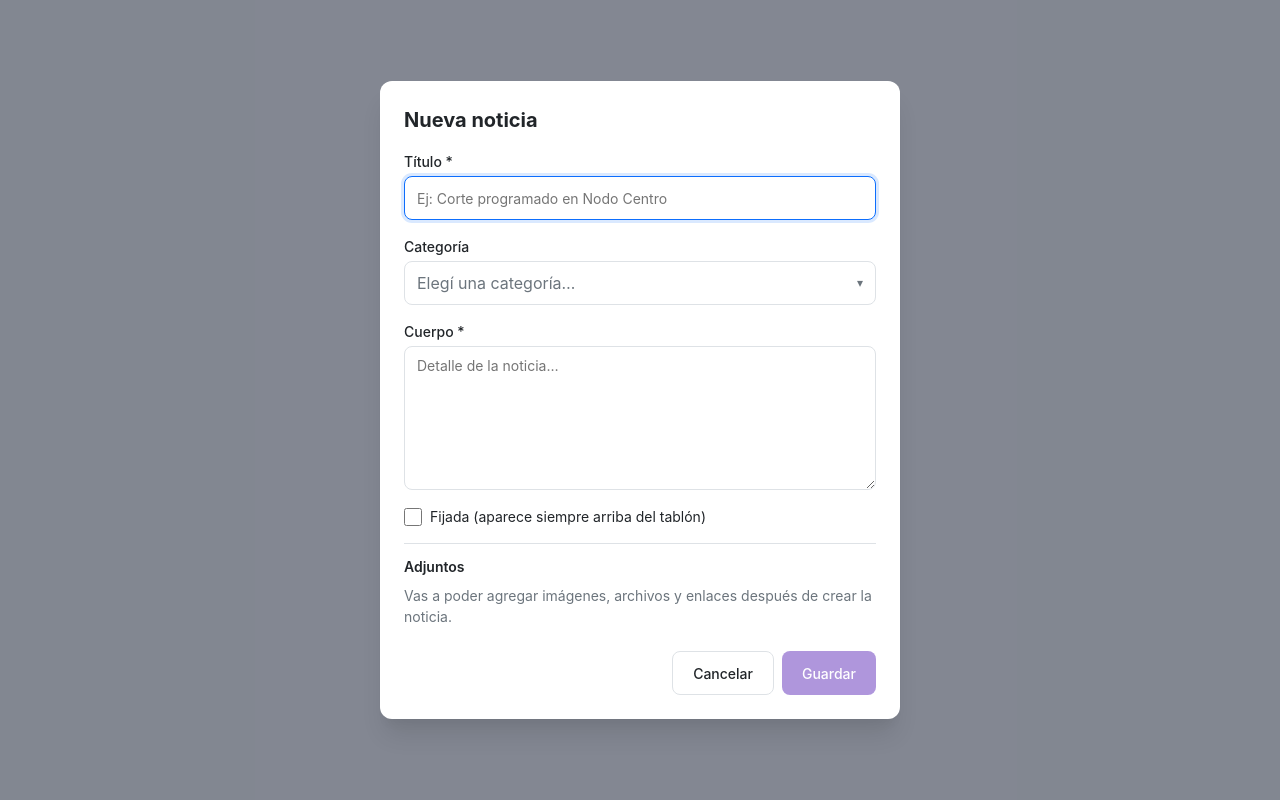
Scenario: NewsPostModal — doble validación (NEWS-FE-BD-5) › maps a BE 400 validation error to a visible message without closing
Type "Nueva noticia" into the field labelled "Título *" at (640, 198), box [404, 176, 876, 220]
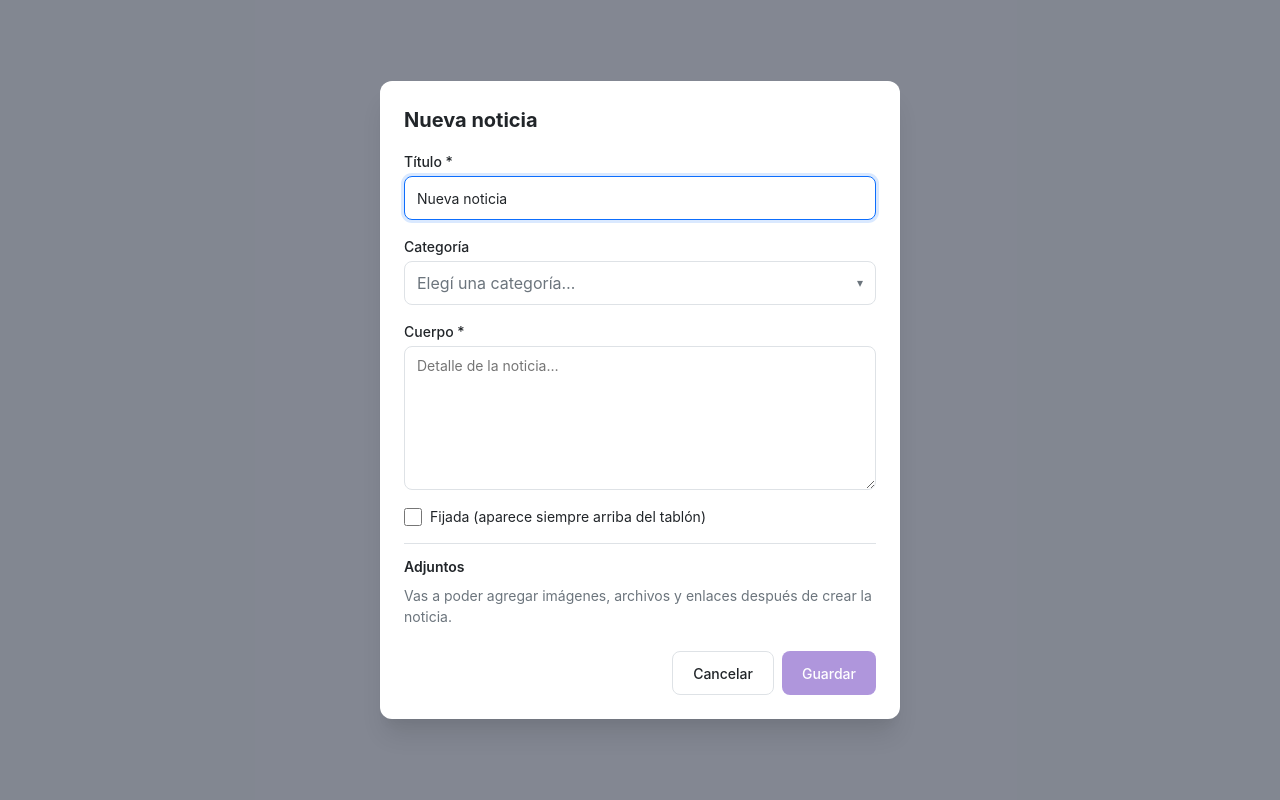
Type "Contenido" into the text box labelled "Cuerpo *" at (640, 418), box [404, 346, 876, 490]
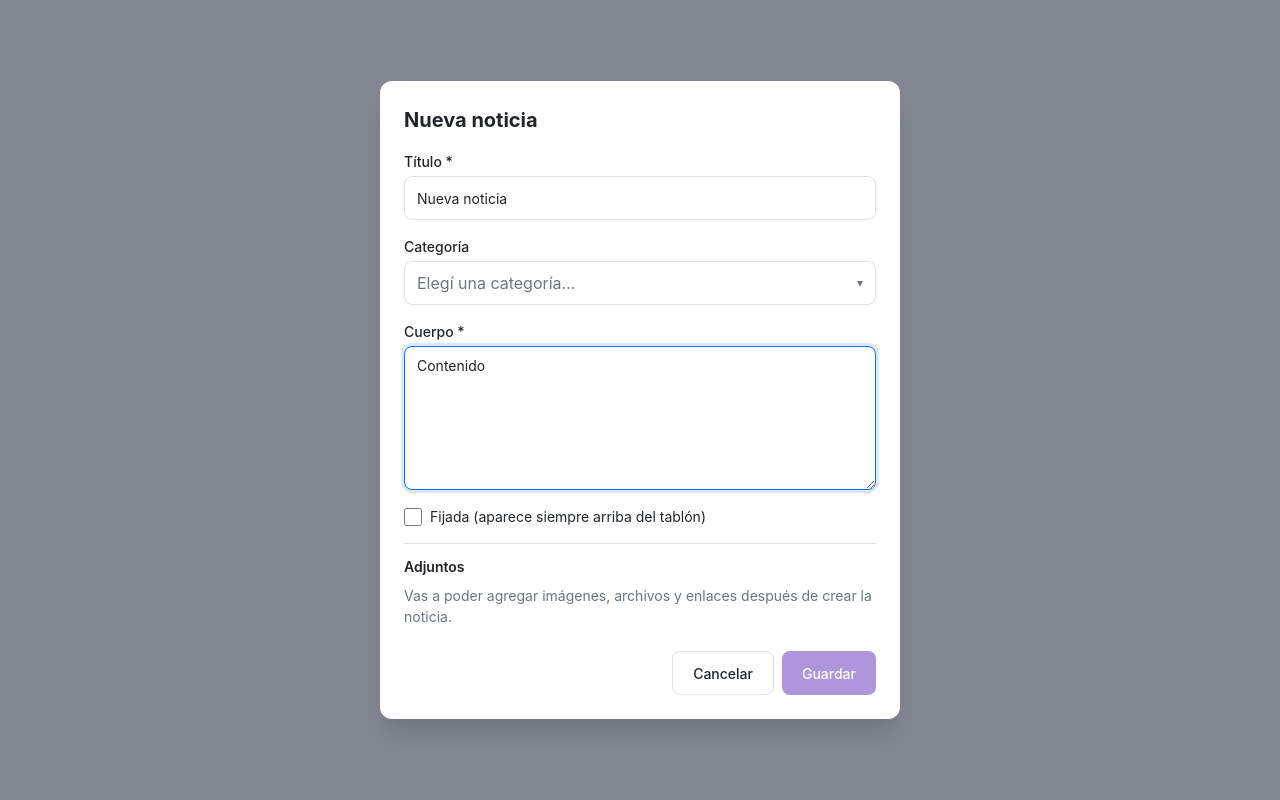
Click the dropdown labelled "Elegí una categoría… ▾" at (496, 283), box [404, 261, 876, 305]
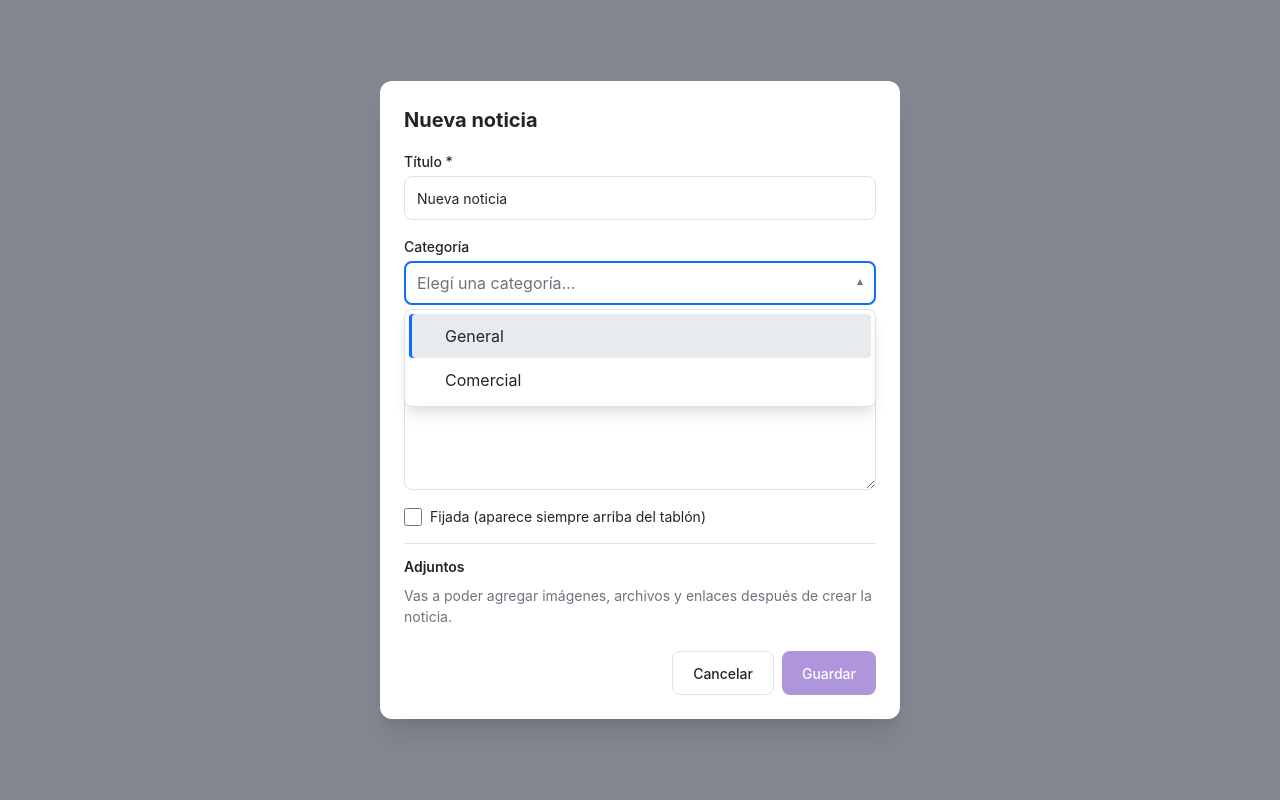
Click the option "General" at (474, 336), box [409, 314, 871, 358]
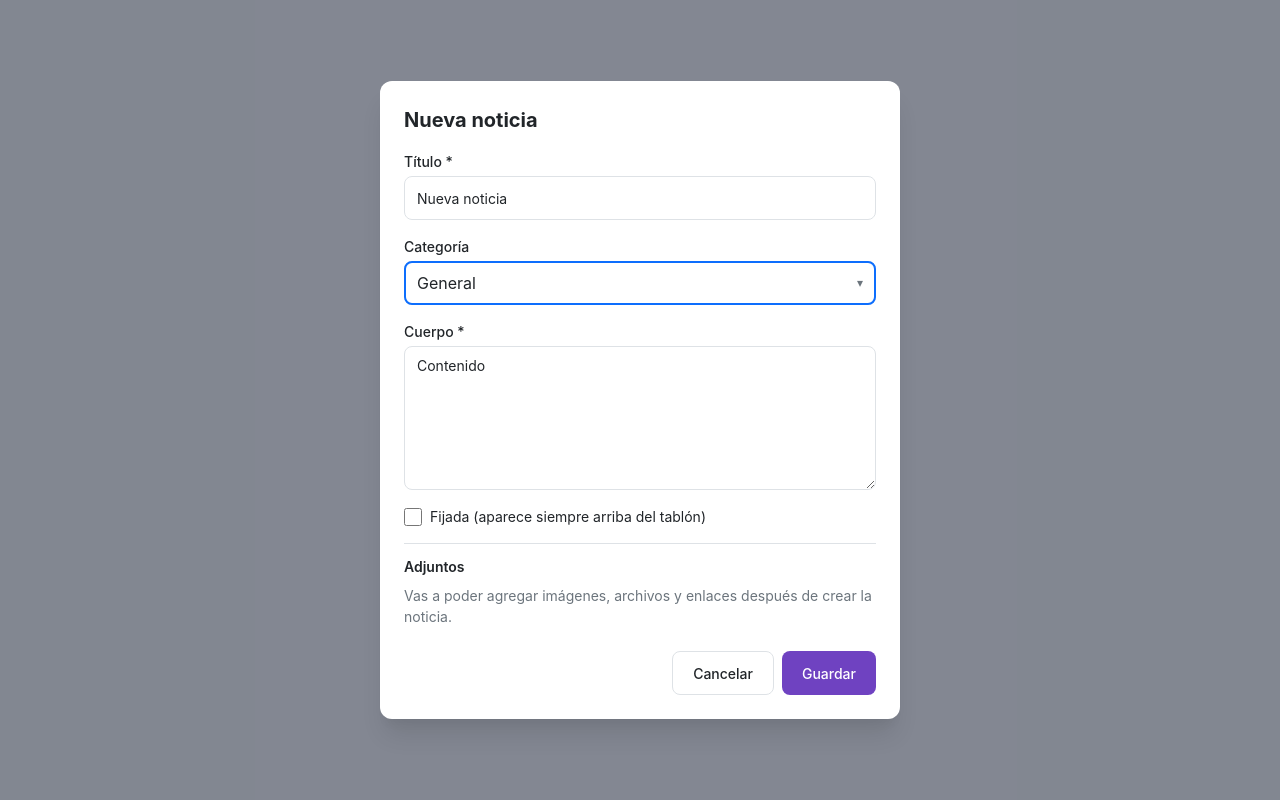
Click the button "Guardar" at (829, 673), box [782, 651, 876, 695]
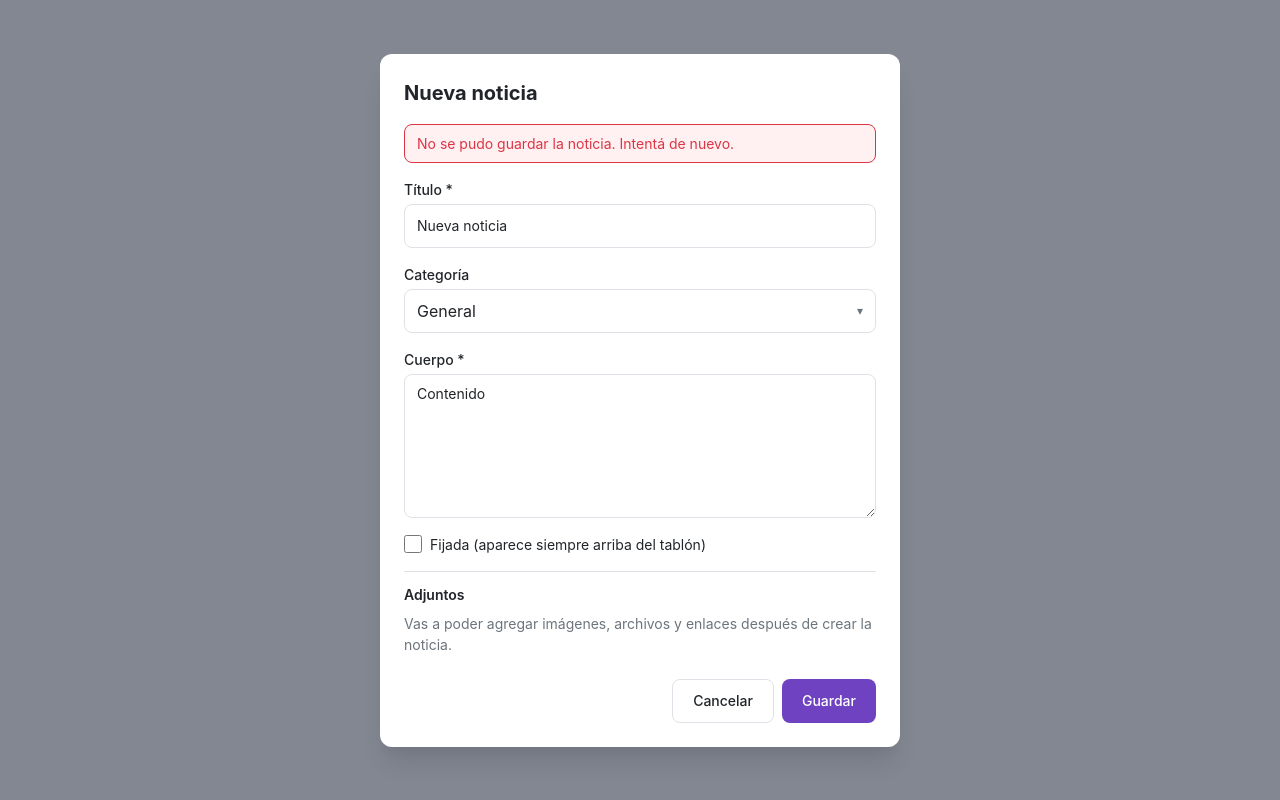
Now the message shows "No se pudo", box [417, 134, 734, 152]
